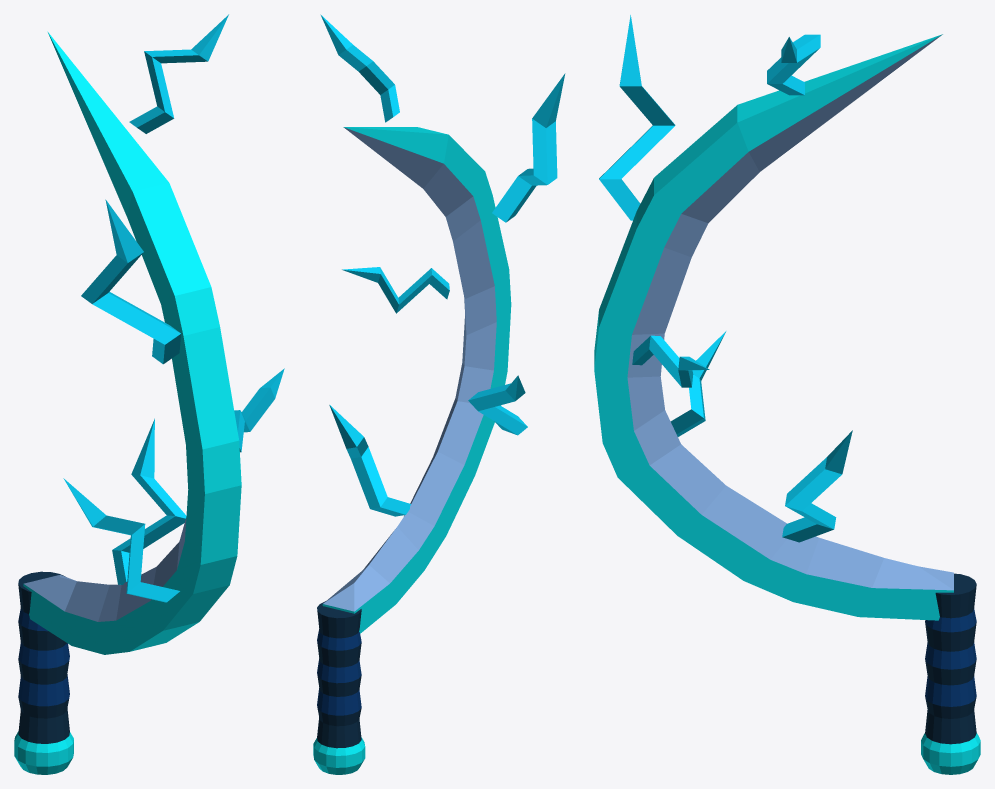
Rendered from ElectricSythe.fbx.
3 renders of one model, left to right at view 1: azimuth 30°, elevation 25°; view 2: azimuth 150°, elevation 25°; view 3: azimuth 270°, elevation 25°, orthographic. The views are drawn at different scales.
Visible parts, largest first — view 1: Cube, Cube.005, Cylinder; view 2: Cube, Cube.005, Cylinder; view 3: Cube, Cube.005, Cylinder.
Part boxes in pixels (bbox=[...]): Cube: bbox=[23, 31, 241, 654]; Cube.005: bbox=[63, 14, 284, 602]; Cylinder: bbox=[14, 571, 73, 774]; Cube: bbox=[322, 127, 511, 633]; Cube.005: bbox=[320, 14, 565, 516]; Cylinder: bbox=[313, 601, 365, 774]; Cube: bbox=[594, 34, 953, 620]; Cube.005: bbox=[599, 15, 852, 542]; Cylinder: bbox=[921, 573, 980, 774].
Bounding box in the file's own units: 982 × 3329 × 1498.
